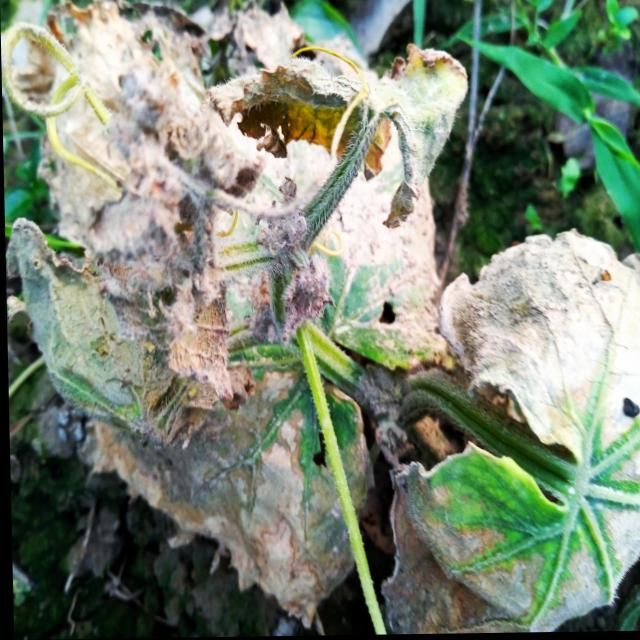Bacterial-Wilt: (5, 216, 257, 453), (192, 39, 473, 236)
